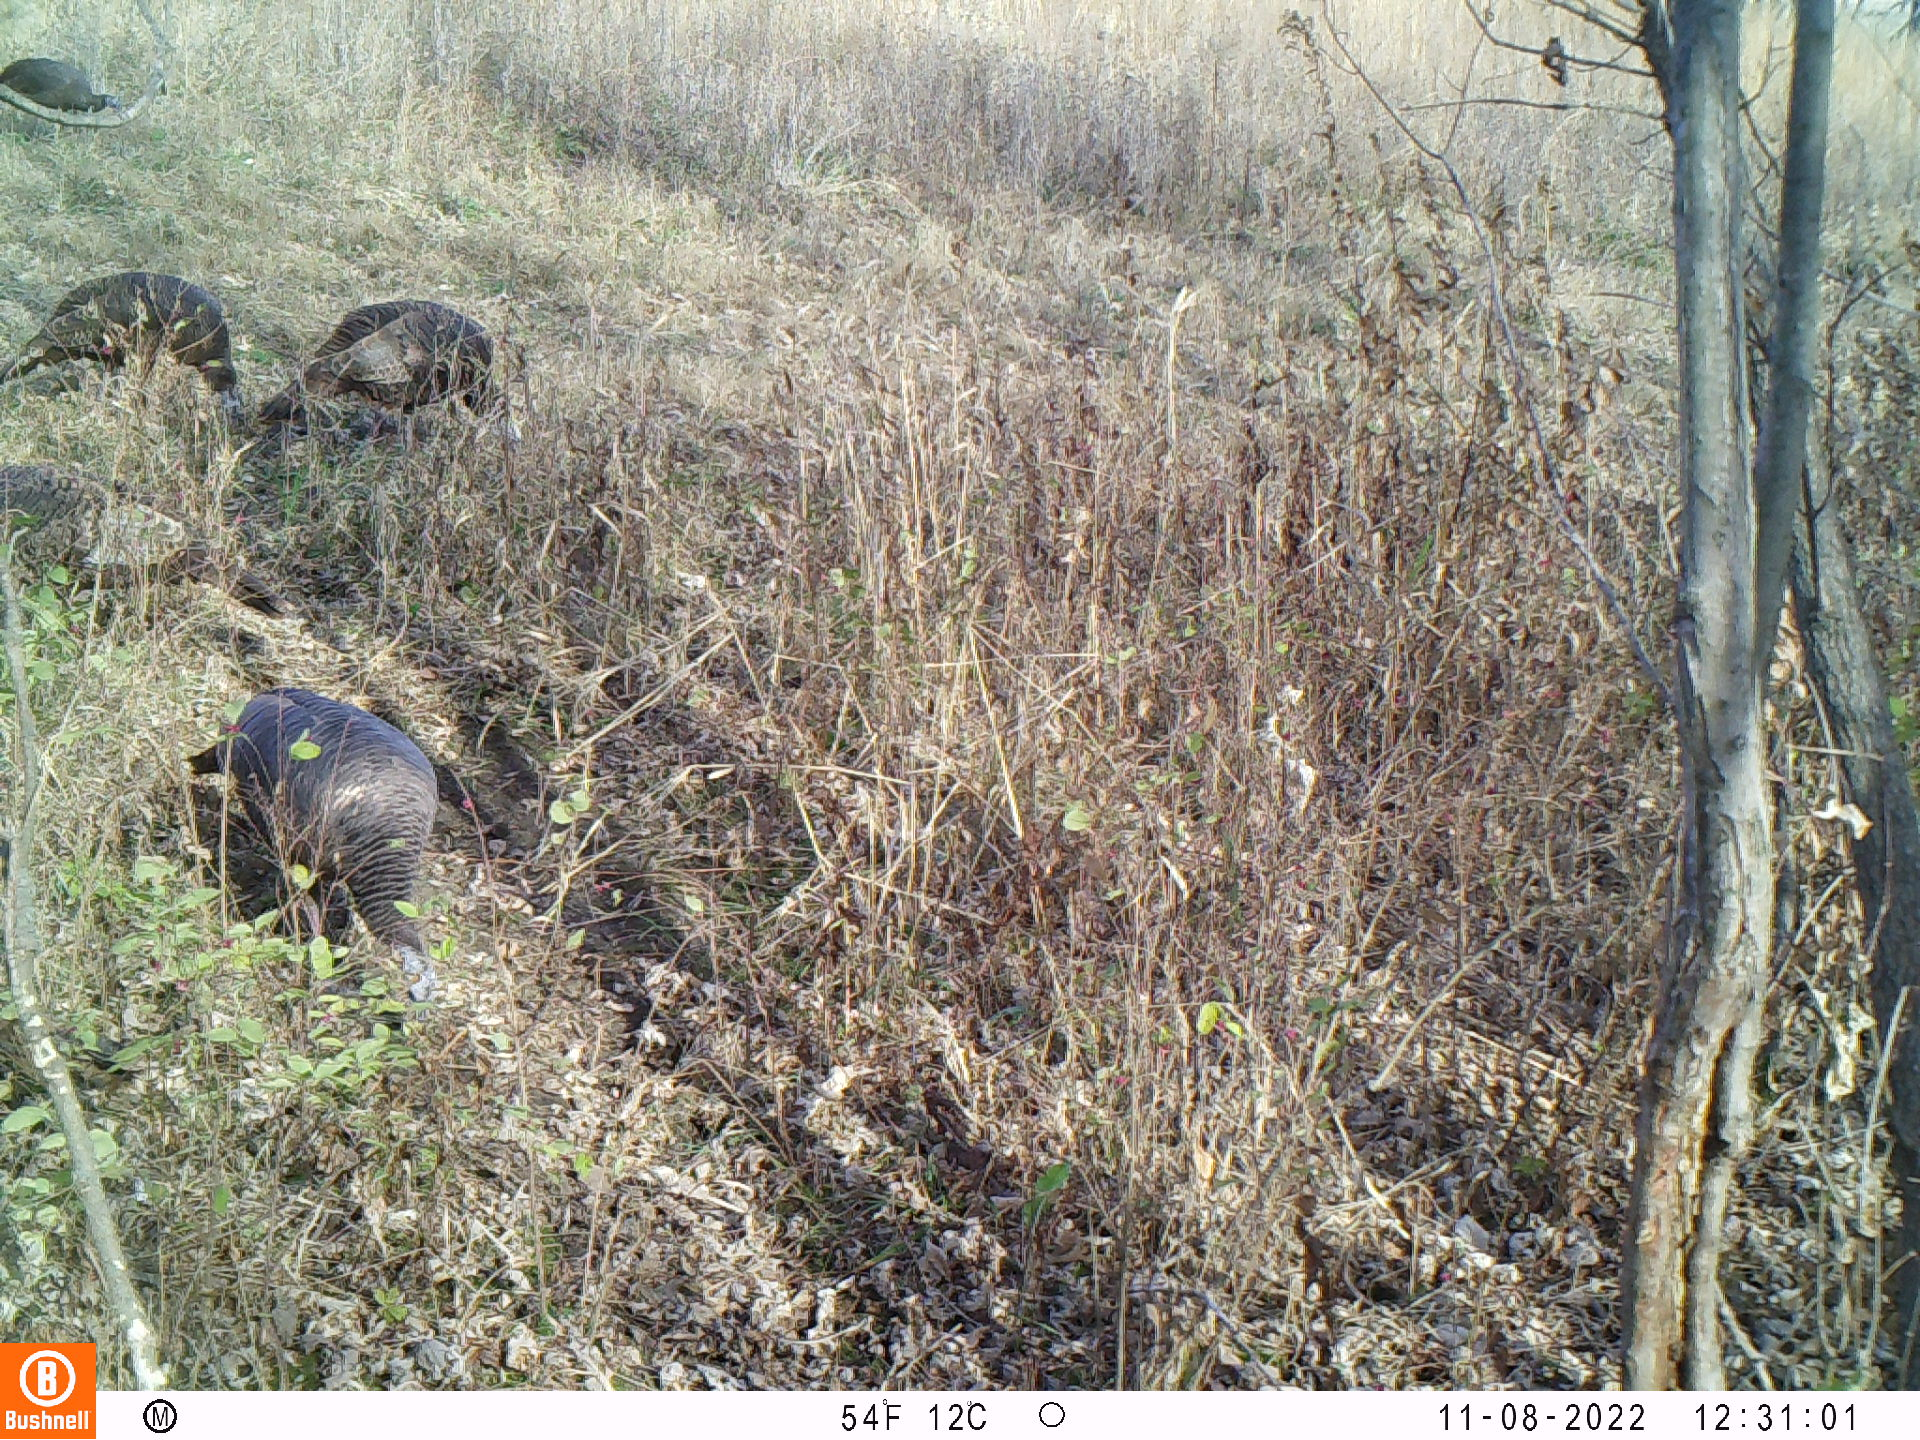Turkey: (184, 684, 443, 1003), (246, 296, 517, 431), (2, 269, 243, 399), (2, 454, 192, 582), (2, 51, 125, 119)
